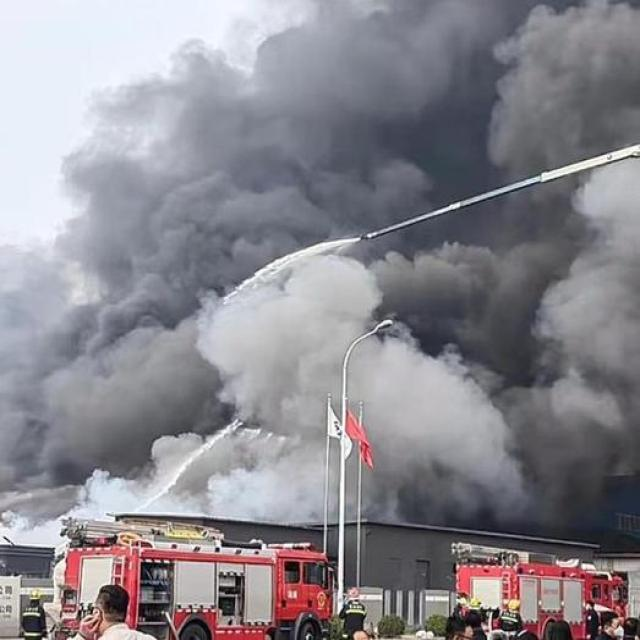Smoke: (0, 1, 640, 522)
